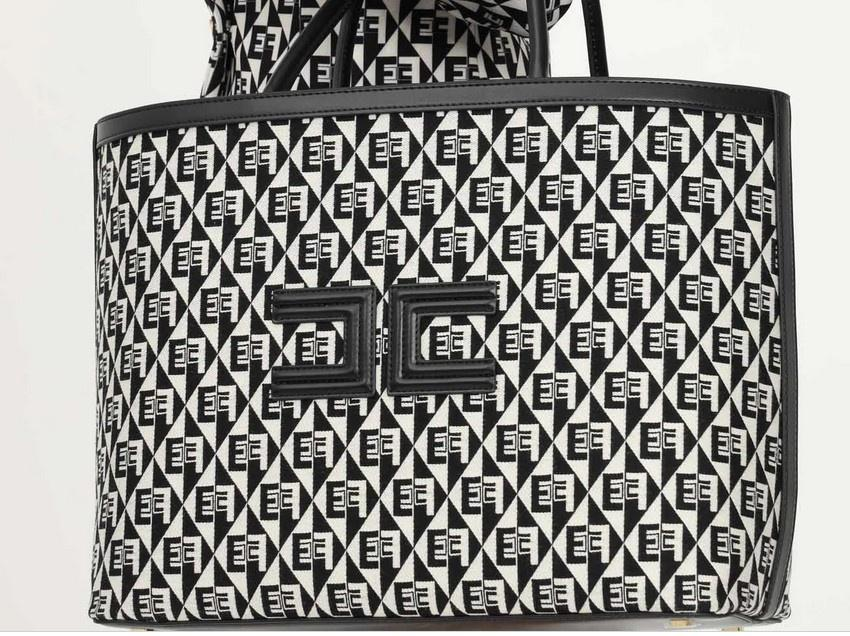ELISABETTA-FRANCHI: (257, 265, 520, 409)
